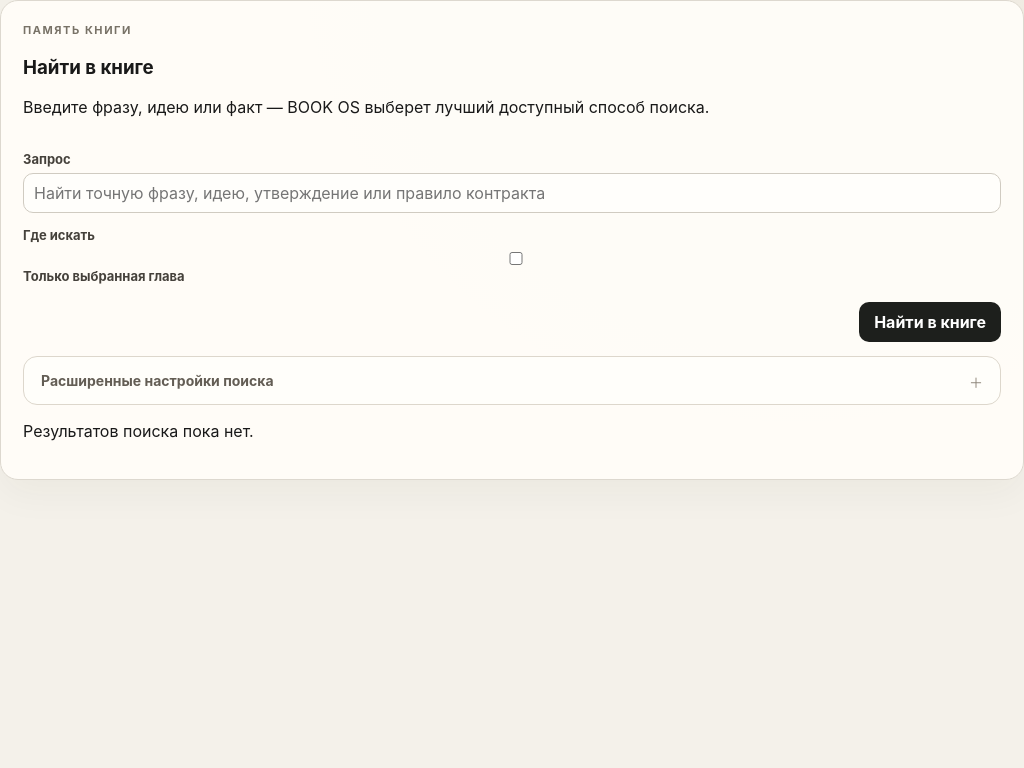
rebuilds semantic memory then returns a stable CURRENT hybrid result
The image size is (1024, 768).
Check: the heading "Найти в книге" is shown, box x1=23 y1=56 x2=154 y2=79
In the field named "Найти в книге": (512, 193) x1=23 y1=173 x2=1001 y2=213, type "whole book current revision"
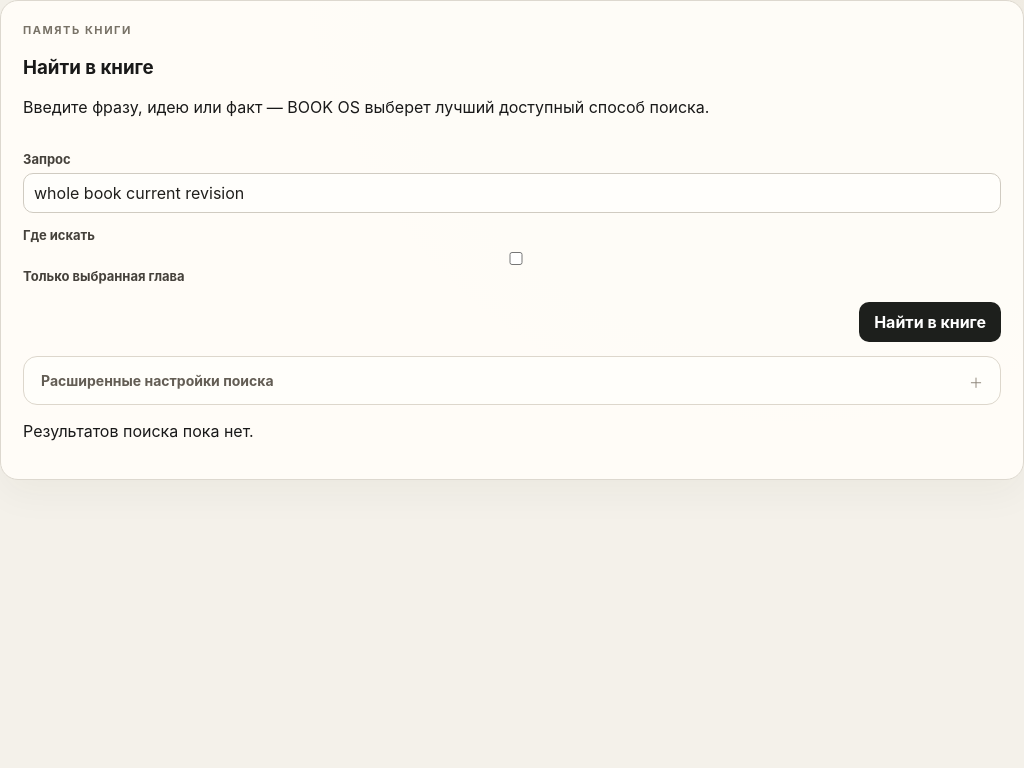
Click the button "Найти в книге": (930, 322) x1=859 y1=302 x2=1001 y2=342
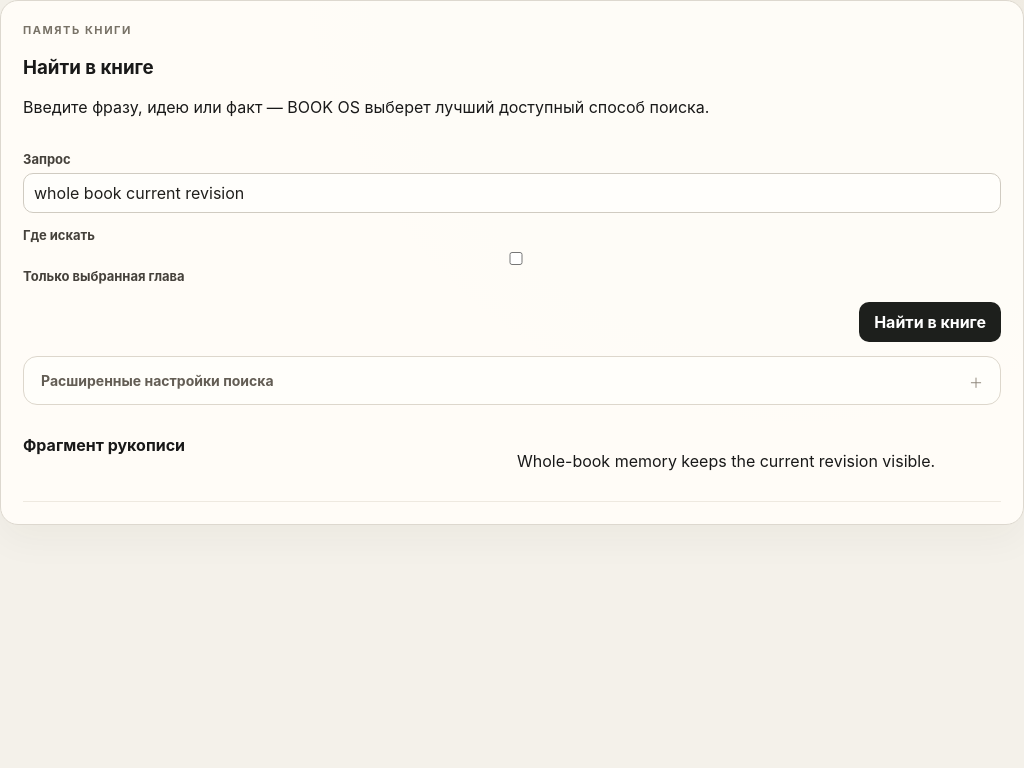
Check: the text "Whole-book memory keeps the current revision visible." is shown, box x1=517 y1=451 x2=1001 y2=471
